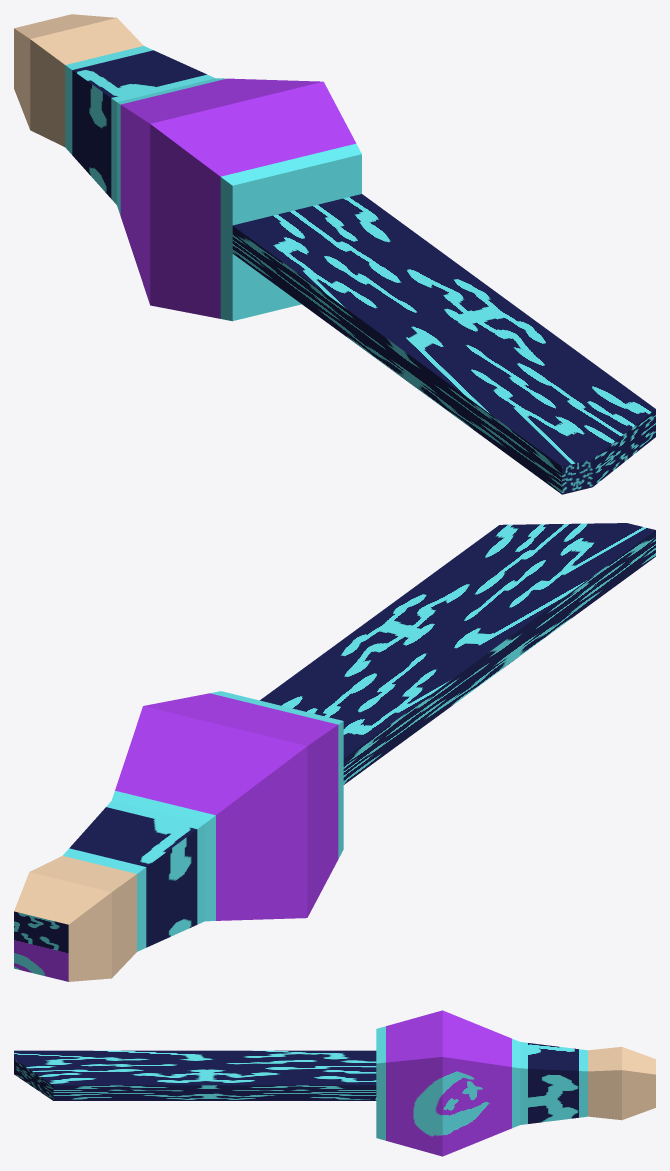
Rendered from Mirai 3d Sword.fbx.
The picture shows the model from 3 angles, top to bottom: view 1: azimuth 30°, elevation 25°; view 2: azimuth 150°, elevation 25°; view 3: azimuth 270°, elevation 25°; orthographic projection. The views are drawn at different scales.
Parts seen in each view (by area): view 1: Sword.001; view 2: Sword.001; view 3: Sword.001.
Boxes of the visible parts, box(x1,y1,x2,y2) form: Sword.001: box(14, 14, 655, 494); Sword.001: box(14, 523, 655, 981); Sword.001: box(14, 1010, 655, 1156).
Bounding box in the file's own units: 42.52 × 42.52 × 248.
